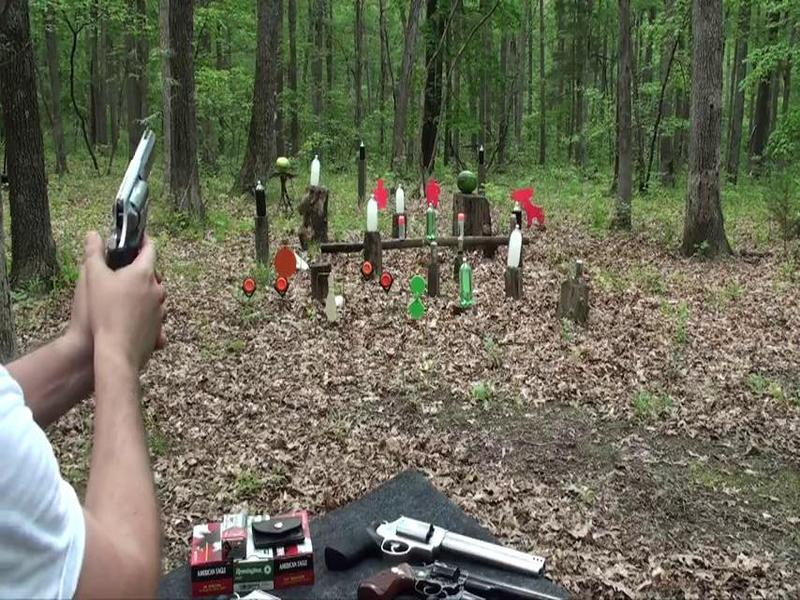Revolver: (96, 100, 187, 293)
